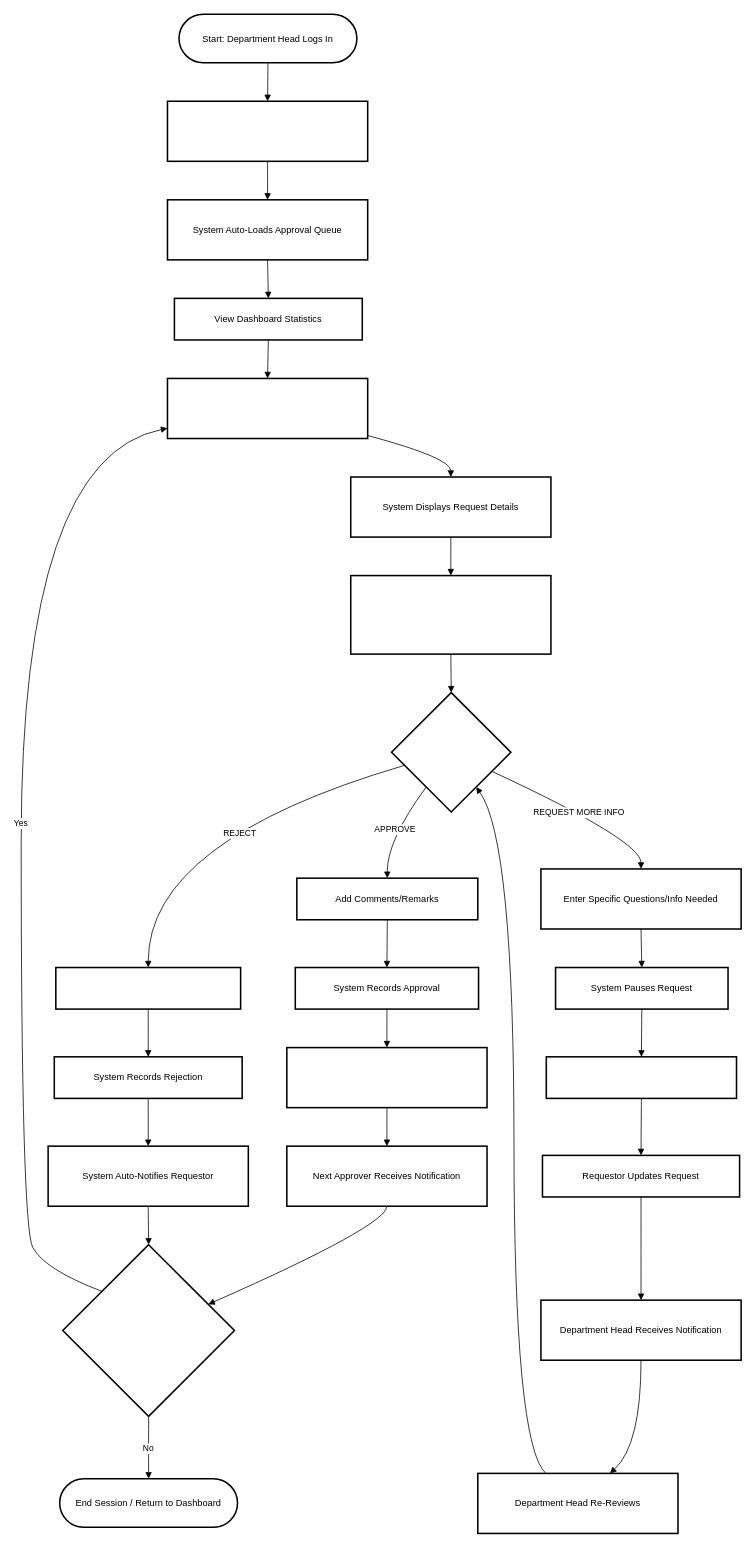
Image size: 755x1547. Some labels were removed from this diagram. The box of each missing label's shape, as (x1, y1, x2, y2) in pixels:
Access Department Head Dashboard: (166, 100, 368, 162)
Add Reason for Rejection: (55, 966, 241, 1009)
Decision Point: (390, 691, 511, 812)
Next Request in Queue?: (62, 1244, 235, 1417)
Review Request: Legitimate? Budget? Quantity?: (350, 574, 551, 654)
Select First Request from Queue: (166, 377, 368, 439)
System Auto-Routes to Recommending Approver: (286, 1046, 487, 1108)
System Notifies Requestor: (545, 1056, 737, 1099)
